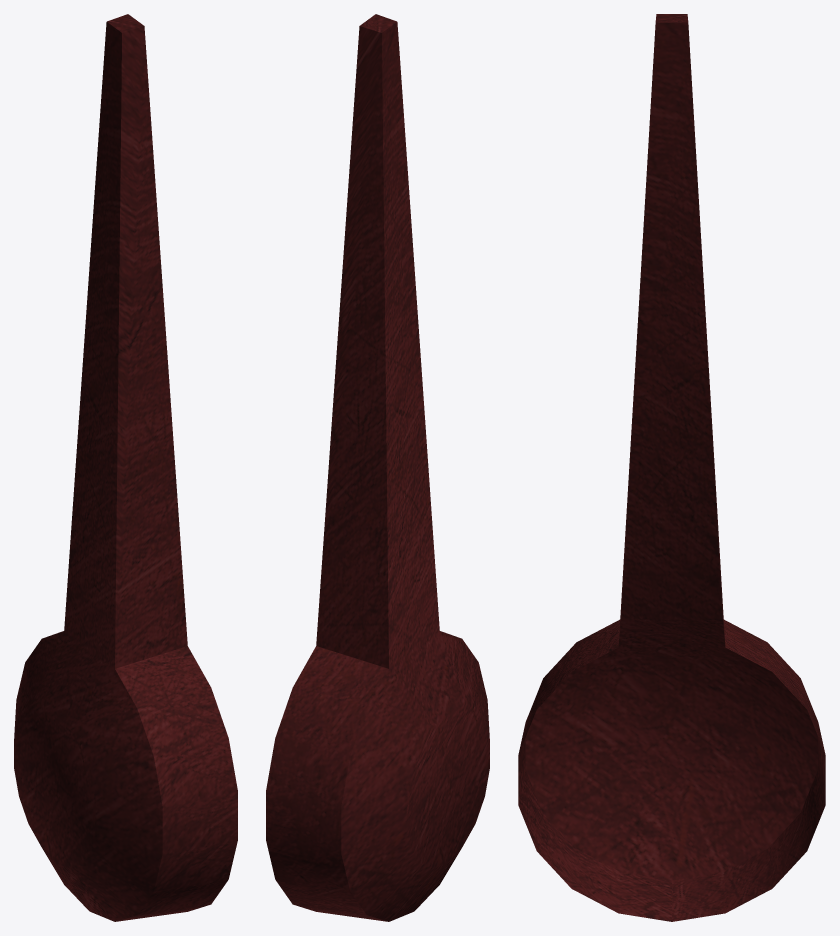
File: aguja ping.fbx
3 views of the same model, side by side, from view 1: azimuth 30°, elevation 25°; view 2: azimuth 150°, elevation 25°; view 3: azimuth 270°, elevation 25° (orthographic).
Parts seen in each view (by area): view 1: AGUJA; view 2: AGUJA; view 3: AGUJA.
Boxes of the visible parts, x1,y1,x2,y2 form: AGUJA: (14, 14, 237, 921); AGUJA: (266, 14, 489, 921); AGUJA: (518, 14, 825, 921).
Bounding box in the file's own units: 1.14 × 9.14 × 2.87.
